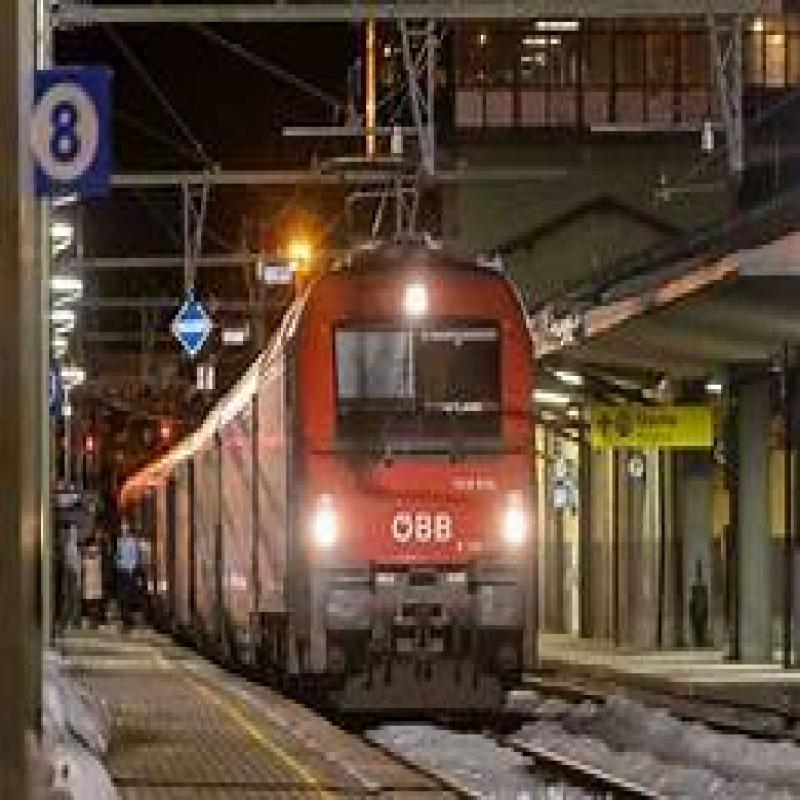train: (223, 224, 567, 709)
